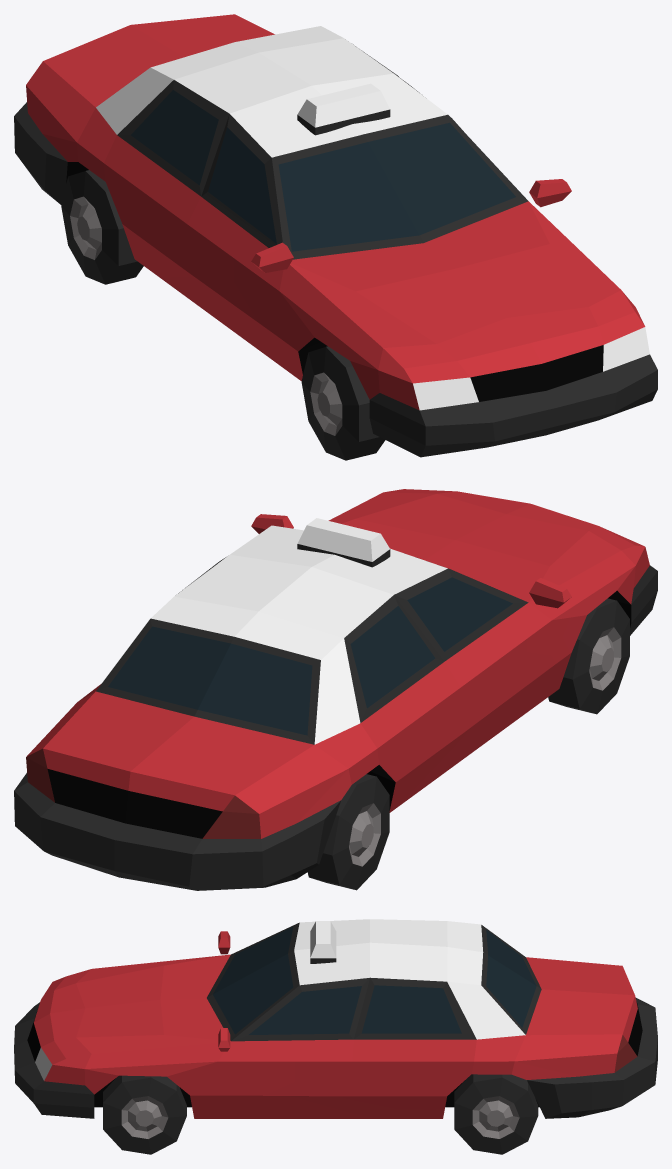
The model's file is car-taxi-china.glb.
3 views of the same model, one above another, from view 1: azimuth 30°, elevation 25°; view 2: azimuth 150°, elevation 25°; view 3: azimuth 270°, elevation 25° (orthographic). The views are drawn at different scales.
Parts seen in each view (by area): view 1: car-taxi-china-base, car-taxi-china-wheel_FR, car-taxi-china-wheel_BR; view 2: car-taxi-china-base, car-taxi-china-wheel_BR, car-taxi-china-wheel_FR; view 3: car-taxi-china-base, car-taxi-china-wheel_BL, car-taxi-china-wheel_FL.
Boxes of the visible parts, bbox=[...] form: car-taxi-china-base: bbox=[14, 14, 657, 457]; car-taxi-china-wheel_FR: bbox=[301, 346, 385, 460]; car-taxi-china-wheel_BR: bbox=[61, 170, 143, 284]; car-taxi-china-base: bbox=[14, 489, 657, 890]; car-taxi-china-wheel_BR: bbox=[307, 774, 389, 890]; car-taxi-china-wheel_FR: bbox=[548, 598, 629, 714]; car-taxi-china-base: bbox=[14, 919, 657, 1118]; car-taxi-china-wheel_BL: bbox=[454, 1074, 538, 1154]; car-taxi-china-wheel_FL: bbox=[103, 1075, 186, 1154].
Bounding box in the file's own units: 2.19 × 1.59 × 5.35.
Materials: 1 (1 with a texture image).
